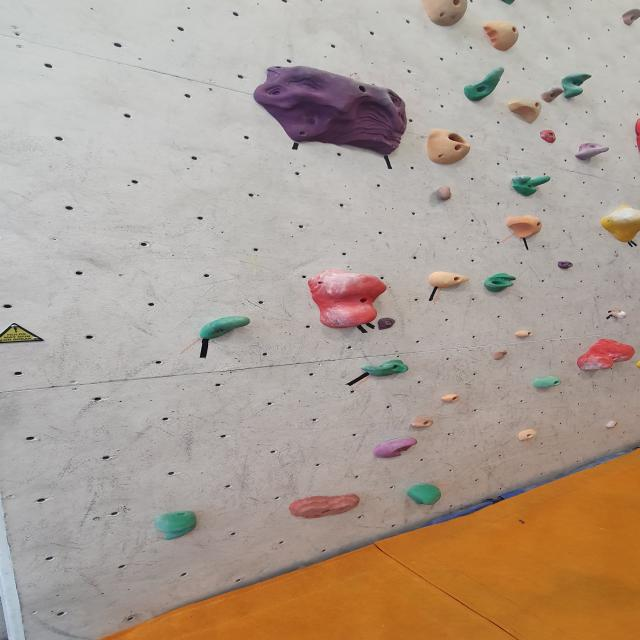Crimp: (246, 63, 409, 157), (534, 128, 562, 146), (616, 8, 640, 27), (517, 427, 539, 442), (608, 307, 632, 319), (490, 350, 509, 362), (440, 394, 462, 404), (515, 329, 536, 339), (604, 420, 618, 430)
Jug: (462, 67, 511, 105), (196, 313, 254, 345), (508, 172, 554, 198), (358, 357, 412, 377), (558, 74, 595, 101), (539, 85, 565, 105), (430, 186, 460, 203), (530, 376, 562, 390)
Pinch: (570, 139, 614, 165), (420, 270, 477, 289), (508, 98, 542, 124)
Pocket: (482, 272, 519, 294)
Sloper: (308, 270, 388, 332), (284, 492, 362, 520), (424, 126, 474, 167), (574, 340, 637, 372), (414, 0, 472, 29), (597, 204, 640, 242), (152, 510, 201, 542), (477, 20, 521, 54), (370, 437, 419, 460), (505, 215, 546, 239), (404, 483, 442, 507)
